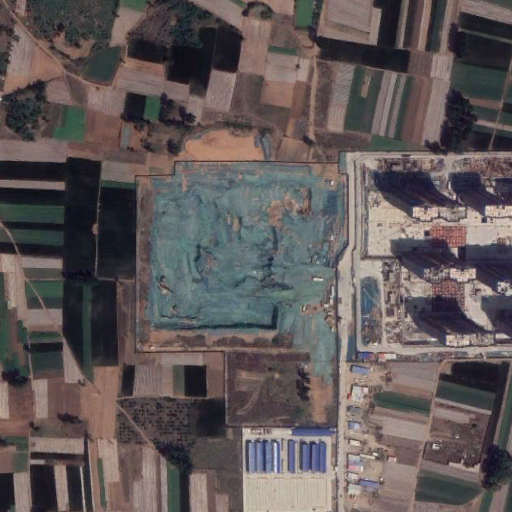cw: (134, 161, 337, 379)
